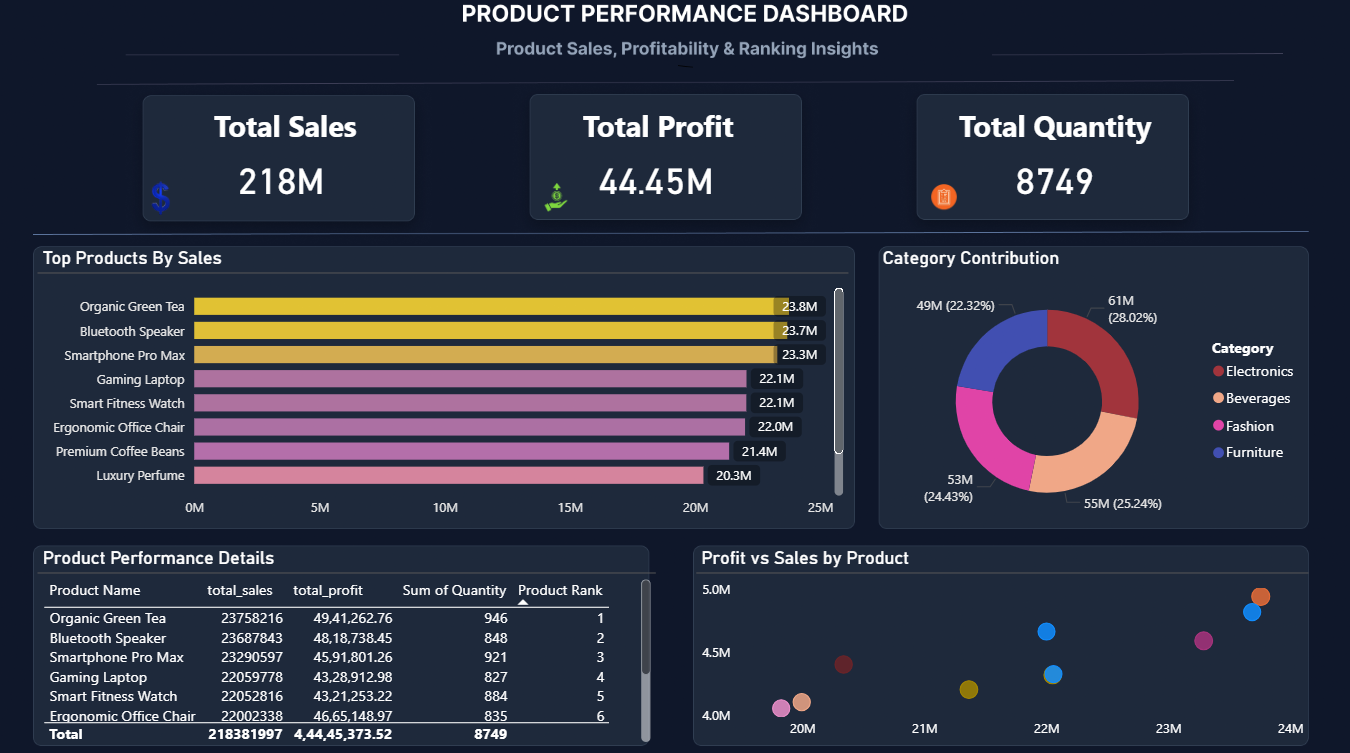

What the dashboard file says about the page in this screenshot:
{"tool":"powerbi","page":{"name":"product","canvas":[1280,720],"ordinal":2},"visuals":[{"type":"card","fields":{"Values":["calculate.total_sales"]},"box":[211.6,146.5,118.6,61.6],"z":0},{"type":"textbox","box":[203.5,104.7,165.1,48.8],"z":1000},{"type":"image","box":[134.9,177.9,48.8,37.2],"z":2000},{"type":"textbox","box":[546.5,104.7,165.1,48.8],"z":3000},{"type":"card","fields":{"Values":["calculate.total_profit"]},"box":[560.5,146.5,118.6,61.6],"z":4000},{"type":"image","box":[507,181.4,39.5,26.7],"z":5000},{"type":"textbox","box":[896.5,104.7,204.7,48.8],"z":6000},{"type":"card","fields":{"Values":["calculate.total_quantity"]},"box":[931.4,146.5,118.6,61.6],"z":7000},{"type":"image","box":[867.4,181.4,39.5,26.7],"z":8000},{"type":"clusteredBarChart","title":"Top Products By Sales","fields":{"Category":["Product_Dim.Product Name"],"Y":["calculate.total_sales"]},"box":[44.2,240.7,754.7,259.3],"z":9000},{"type":"donutChart","title":"Category Contribution","fields":{"Category":["Category_Dim.Category"],"Y":["calculate.total_sales"]},"box":[825.6,240.7,401.2,268.6],"z":10000},{"type":"tableEx","title":"Product Performance Details","fields":{"Values":["Product_Dim.Product Name","calculate.total_sales","calculate.total_profit","Sum(Sales_Fact.Quantity)","Product_Dim.Product Rank"]},"box":[44.2,519.8,575.6,186],"z":11000},{"type":"scatterChart","title":"Profit vs Sales by Product","fields":{"X":["calculate.total_sales"],"Y":["calculate.total_profit"],"Category":["Sales_Fact.Product Name"],"Size":["Sum(Sales_Fact.Quantity)"]},"box":[657,519.8,569.8,186],"z":12000}]}

Visuals, with their boxes in screenshot pixels (x1, y1, x2, y2), scaled from the page's 1280x720 canvas onto the 1350x753 screenshot:
card - calculate.total_sales: bbox=[223, 153, 348, 218]
textbox: bbox=[215, 109, 389, 161]
image: bbox=[142, 186, 194, 225]
textbox: bbox=[576, 109, 751, 161]
card - calculate.total_profit: bbox=[591, 153, 716, 218]
image: bbox=[535, 190, 576, 218]
textbox: bbox=[946, 109, 1161, 161]
card - calculate.total_quantity: bbox=[982, 153, 1107, 218]
image: bbox=[915, 190, 956, 218]
"Top Products By Sales" clusteredBarChart: bbox=[47, 252, 843, 523]
"Category Contribution" donutChart: bbox=[871, 252, 1294, 533]
"Product Performance Details" tableEx: bbox=[47, 544, 654, 738]
"Profit vs Sales by Product" scatterChart: bbox=[693, 544, 1294, 738]
